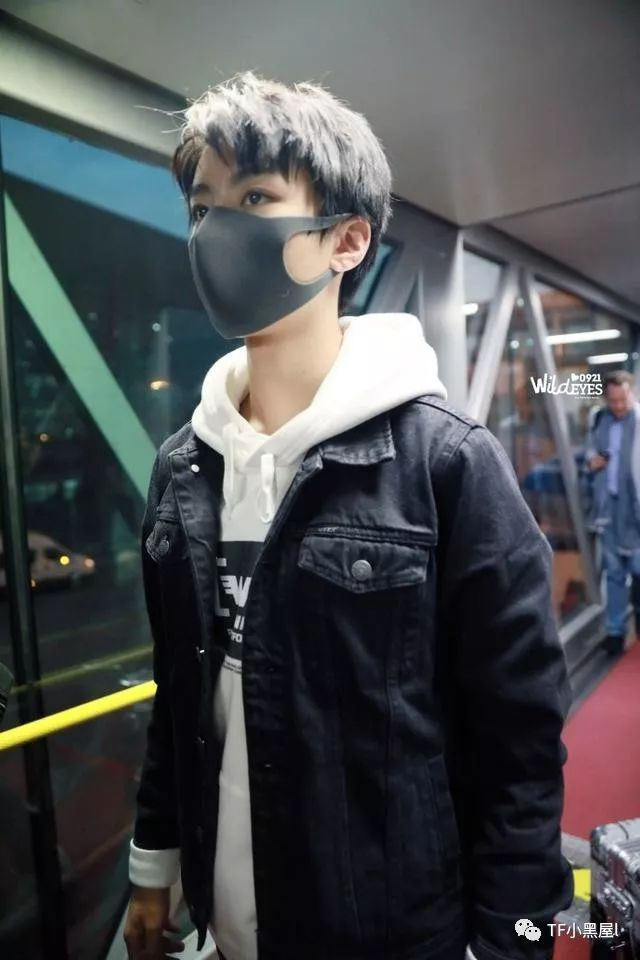mask: (173, 181, 355, 334)
